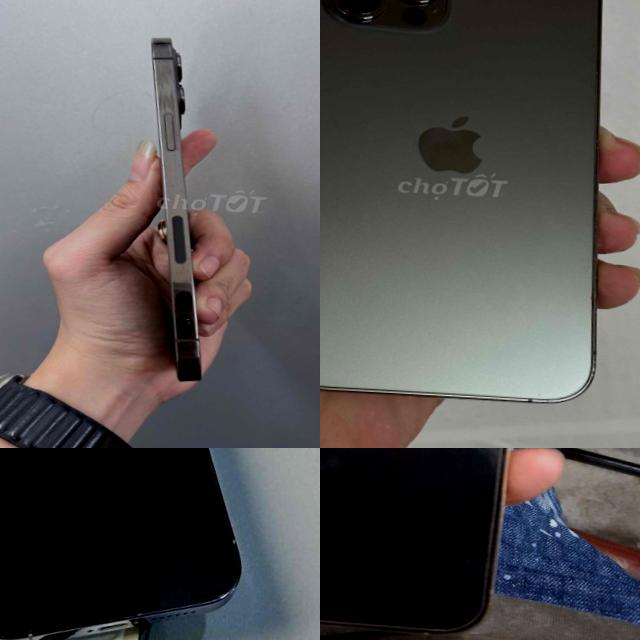gen_12_13: (320, 0, 623, 412), (0, 448, 266, 640), (320, 448, 554, 640), (122, 31, 236, 391)
